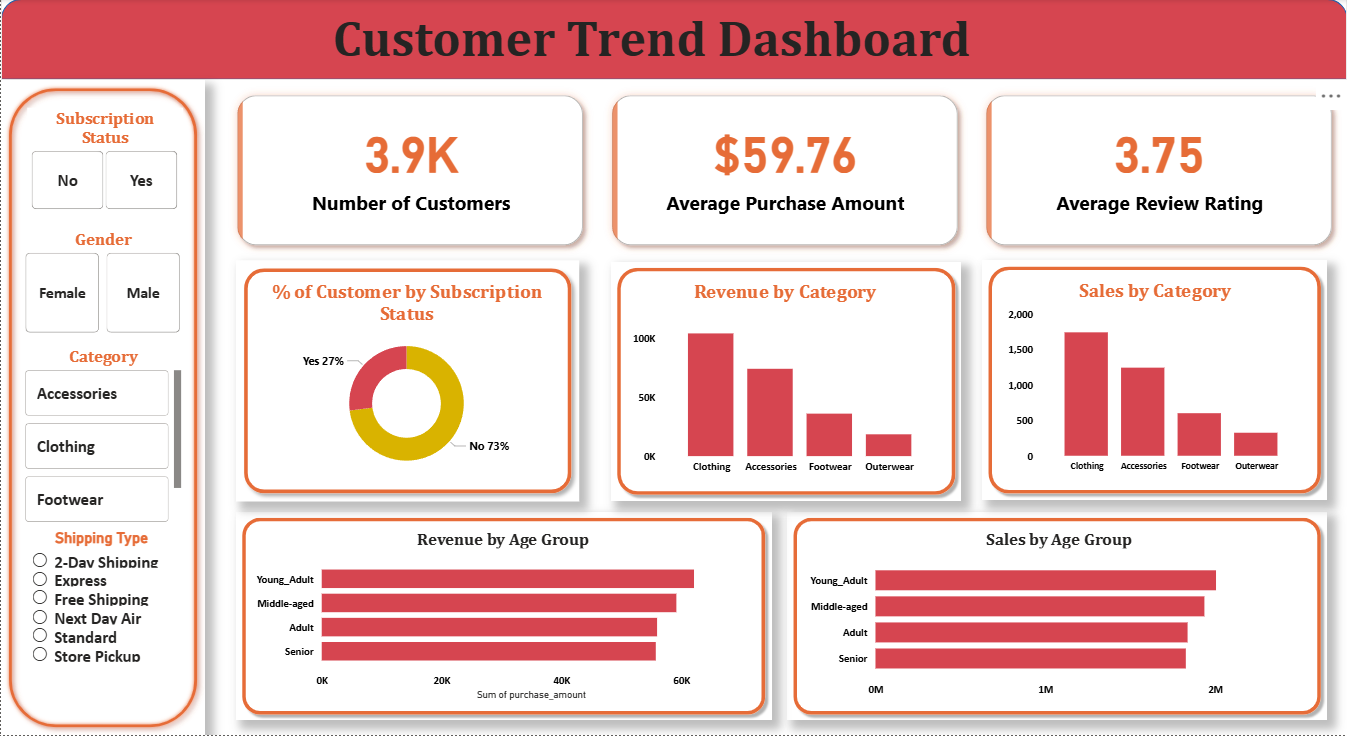

This screenshot's page, from the dashboard's own definition file:
{"tool":"powerbi","page":{"name":"Page 1","canvas":[1500,820],"ordinal":0},"visuals":[{"type":"cardVisual","fields":{"Data":["customer.Number of Customers","customer.Average Purchase Amount","customer.Average Review Rating"]},"box":[246,90.1,1254.3,201],"z":0},{"type":"shape","box":[0,0,1500.3,90],"z":1000},{"type":"shape","box":[262.1,291.1,382.7,268.5],"z":3000},{"type":"textbox","box":[340.3,4.9,770.6,78.5],"z":4000},{"type":"shape","box":[680.2,292.7,390.8,266.9],"z":5000},{"type":"donutChart","title":"% of Customer by Subscription Status","fields":{"Category":["customer.subscription_status"],"Y":["CountNonNull(customer.customer_id)"]},"box":[279.8,313.6,344.1,225.1],"z":5500},{"type":"shape","box":[1093.5,291.1,384.3,266.9],"z":6000},{"type":"clusteredColumnChart","title":"Revenue by Category","fields":{"Y":["Sum(customer.purchase_amount)"],"Category":["customer.category"]},"box":[699.5,313.6,349,225.1],"z":7000},{"type":"clusteredColumnChart","title":"Sales by Category","fields":{"Y":["CountNonNull(customer.customer_id)"],"Category":["customer.category"]},"box":[1117.6,312,337.7,225.1],"z":8000},{"type":"shape","box":[0,90,227.4,729.7],"z":9000},{"type":"advancedSlicerVisual","title":"Subscription Status","fields":{"Values":["customer.subscription_status"]},"box":[28.9,120.6,173.7,119],"z":10000},{"type":"advancedSlicerVisual","title":"Gender","fields":{"Values":["customer.gender"]},"box":[22.5,255.7,183.3,120.6],"z":11000},{"type":"advancedSlicerVisual","title":"Category","fields":{"Values":["customer.category"]},"box":[22.5,387.5,183.3,202.6],"z":12000},{"type":"listSlicer","title":"Shipping Type","fields":{"Values":["customer.shipping_type"]},"box":[29.2,590.5,165.7,196.4],"z":13000},{"type":"shape","box":[262.1,570.9,596.6,233.2],"z":15000},{"type":"shape","box":[876.4,570.9,601.4,233.2],"z":17000},{"type":"clusteredBarChart","title":"Sales by Age Group","fields":{"Category":["customer.age_group"],"Y":["Sum(customer.customer_id)"]},"box":[895.7,590.2,566,196.2],"z":17250},{"type":"clusteredBarChart","title":"Revenue by Age Group","fields":{"Y":["Sum(customer.purchase_amount)"],"Category":["customer.age_group"]},"box":[278.2,590.2,561.2,196.2],"z":17500}]}

Visuals, with their boxes in screenshot pixels (x1, y1, x2, y2), scaled from the page's 1500x820 canvas onto the 1347x736 screenshot:
cardVisual - customer.Number of Customers x customer.Average Purchase Amount: (left=221, top=81, right=1346, bottom=261)
shape: (left=0, top=0, right=1346, bottom=81)
shape: (left=235, top=261, right=579, bottom=502)
textbox: (left=306, top=4, right=998, bottom=75)
shape: (left=611, top=263, right=962, bottom=502)
"% of Customer by Subscription Status" donutChart: (left=251, top=281, right=560, bottom=484)
shape: (left=982, top=261, right=1327, bottom=501)
"Revenue by Category" clusteredColumnChart: (left=628, top=281, right=942, bottom=484)
"Sales by Category" clusteredColumnChart: (left=1004, top=280, right=1307, bottom=482)
shape: (left=0, top=81, right=204, bottom=735)
"Subscription Status" advancedSlicerVisual: (left=26, top=108, right=182, bottom=215)
"Gender" advancedSlicerVisual: (left=20, top=230, right=185, bottom=338)
"Category" advancedSlicerVisual: (left=20, top=348, right=185, bottom=530)
"Shipping Type" listSlicer: (left=26, top=530, right=175, bottom=706)
shape: (left=235, top=512, right=771, bottom=722)
shape: (left=787, top=512, right=1327, bottom=722)
"Sales by Age Group" clusteredBarChart: (left=804, top=530, right=1313, bottom=706)
"Revenue by Age Group" clusteredBarChart: (left=250, top=530, right=754, bottom=706)
